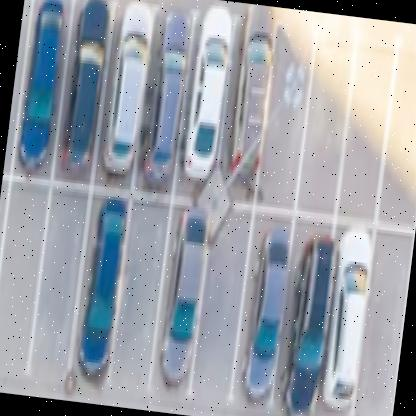Car: (218, 18, 276, 196), (102, 6, 154, 176), (142, 16, 194, 184), (156, 218, 204, 390), (179, 17, 231, 170), (78, 202, 128, 356), (327, 236, 374, 392), (245, 230, 290, 392), (62, 2, 107, 158), (288, 235, 332, 391), (23, 4, 64, 153), (0, 204, 42, 345)
Empty: (30, 198, 89, 362), (261, 50, 309, 186), (194, 244, 240, 385), (117, 234, 162, 370), (362, 256, 405, 396), (340, 67, 386, 196), (306, 54, 348, 178), (387, 74, 416, 208)
